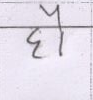au_matra: (44, 4, 68, 56)
